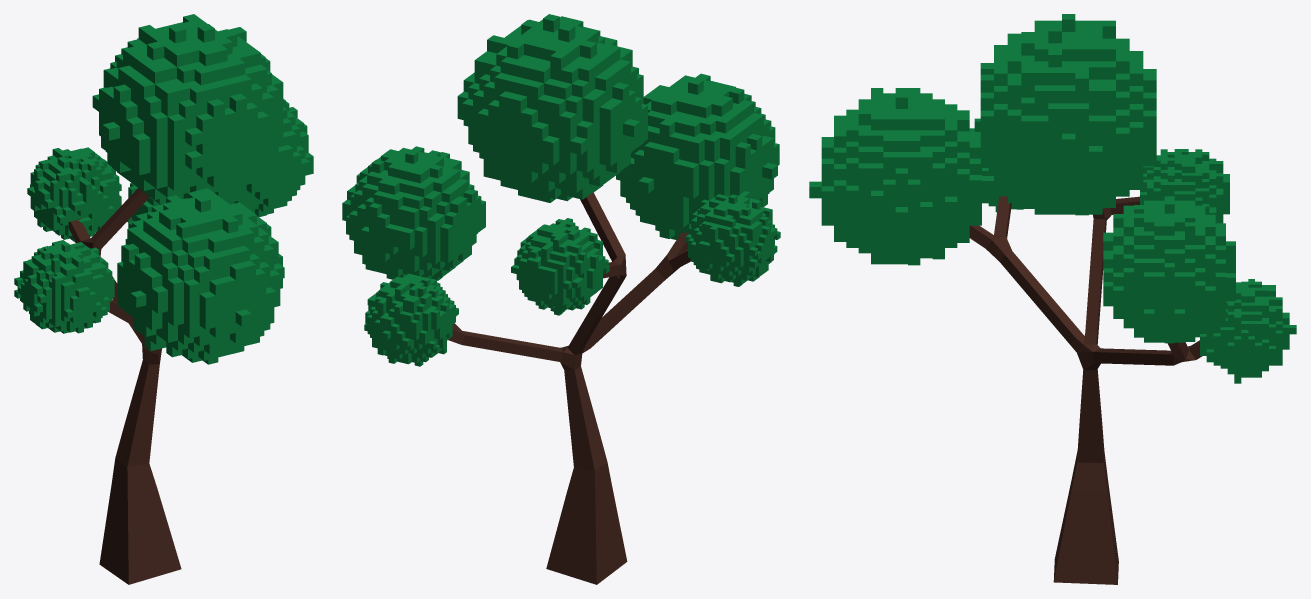
The model's file is renewal_tree.fbx.
The picture shows the model from 3 angles, left to right: view 1: azimuth 30°, elevation 25°; view 2: azimuth 150°, elevation 25°; view 3: azimuth 270°, elevation 25°; orthographic projection. The views are drawn at different scales.
Visible parts, largest first — view 1: Sphere.004, Sphere.003, Vert, Sphere.001, Sphere.002, Sphere.006; view 2: Sphere.004, Sphere.003, Vert, Sphere.006, Sphere.002, Sphere.001, Sphere.005; view 3: Sphere.004, Sphere.003, Vert, Sphere.006, Sphere.005, Sphere.002, Sphere.001.
Part boxes in pixels (x1=…): Sphere.004: x1=92, y1=14, x2=283, y2=204; Sphere.003: x1=117, y1=188, x2=284, y2=364; Vert: x1=68, y1=188, x2=181, y2=584; Sphere.001: x1=14, y1=240, x2=114, y2=333; Sphere.002: x1=27, y1=147, x2=121, y2=242; Sphere.006: x1=234, y1=99, x2=313, y2=217; Sphere.004: x1=457, y1=14, x2=647, y2=202; Sphere.003: x1=616, y1=73, x2=779, y2=239; Vert: x1=437, y1=192, x2=690, y2=584; Sphere.006: x1=342, y1=146, x2=485, y2=280; Sphere.002: x1=511, y1=218, x2=609, y2=315; Sphere.001: x1=685, y1=191, x2=780, y2=286; Sphere.005: x1=364, y1=273, x2=458, y2=366; Sphere.004: x1=980, y1=14, x2=1156, y2=215; Sphere.003: x1=809, y1=88, x2=994, y2=265; Vert: x1=969, y1=196, x2=1202, y2=584; Sphere.006: x1=1103, y1=196, x2=1235, y2=343; Sphere.005: x1=1195, y1=279, x2=1296, y2=383; Sphere.002: x1=1140, y1=149, x2=1229, y2=223; Sphere.001: x1=969, y1=118, x2=1023, y2=212.
Bounding box in the file's own units: 1770 × 2662 × 2052.
